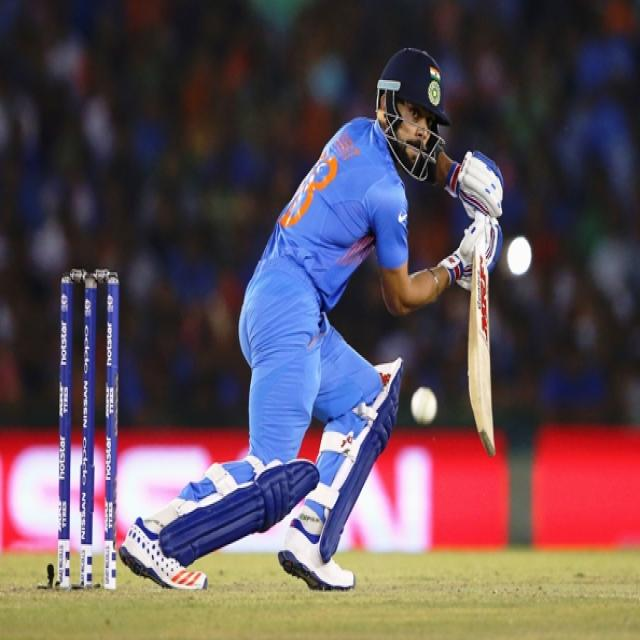ball: (416, 380, 443, 425)
stump: (58, 267, 121, 591)
